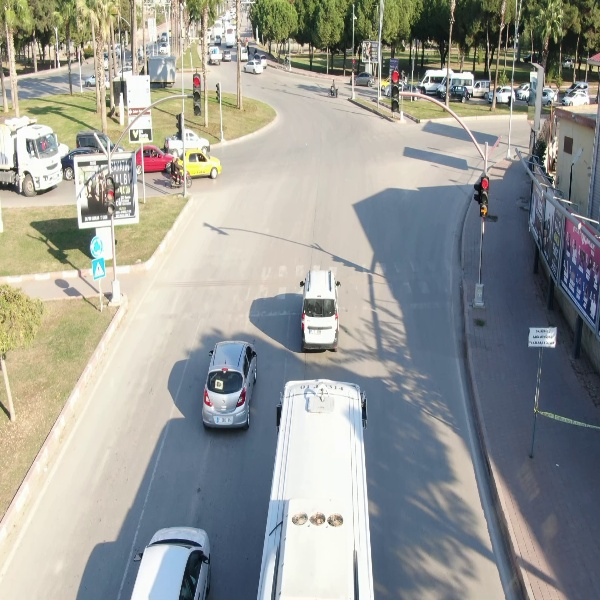car: (198, 339, 260, 432), (300, 268, 341, 353), (489, 83, 519, 105), (441, 84, 470, 103), (349, 70, 377, 88), (561, 90, 591, 106), (242, 58, 264, 77), (222, 49, 234, 61)
